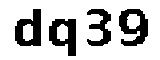3: (80, 4, 113, 53)
9: (114, 6, 151, 51)
d: (8, 6, 46, 52)
q: (47, 17, 81, 60)
